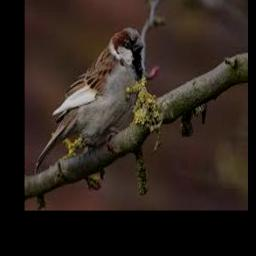Sparrow: (34, 26, 143, 174)
